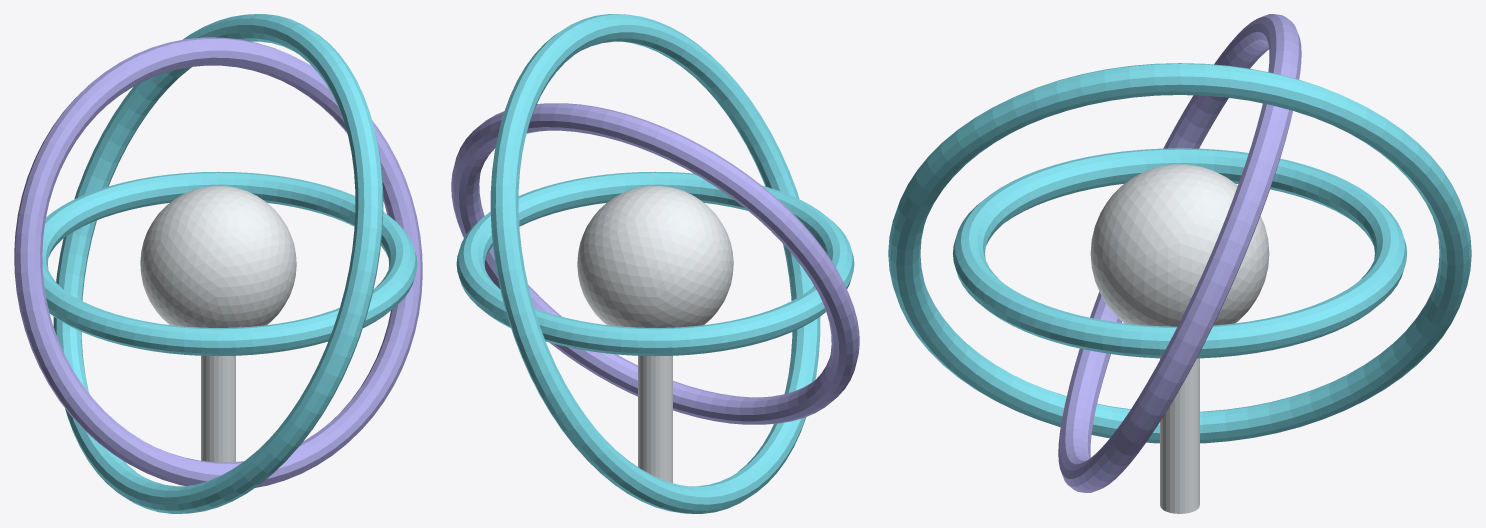
The model's file is orbital-rings.glb.
3 renders of one model, left to right at view 1: azimuth 30°, elevation 25°; view 2: azimuth 150°, elevation 25°; view 3: azimuth 270°, elevation 25°, orthographic. The views are drawn at different scales.
Parts seen in each view (by area): view 1: orbital-rings-1, orbital-rings-2, orbital-rings-0, orbital-rings-3, orbital-rings-4; view 2: orbital-rings-2, orbital-rings-1, orbital-rings-0, orbital-rings-3, orbital-rings-4; view 3: orbital-rings-2, orbital-rings-0, orbital-rings-1, orbital-rings-3, orbital-rings-4.
Part boxes in pixels (<box>): orbital-rings-1: <box>14,37,422,487</box>; orbital-rings-2: <box>53,14,383,513</box>; orbital-rings-0: <box>42,171,417,356</box>; orbital-rings-3: <box>140,186,296,327</box>; orbital-rings-4: <box>201,356,235,462</box>; orbital-rings-2: <box>490,14,820,513</box>; orbital-rings-1: <box>451,103,859,424</box>; orbital-rings-0: <box>456,171,854,356</box>; orbital-rings-3: <box>577,186,733,327</box>; orbital-rings-4: <box>638,356,672,482</box>; orbital-rings-2: <box>888,63,1471,443</box>; orbital-rings-0: <box>952,148,1407,358</box>; orbital-rings-1: <box>1058,14,1301,492</box>; orbital-rings-3: <box>1090,164,1269,326</box>; orbital-rings-4: <box>1160,358,1199,513</box>.
Size of the model in its own units: 2.09 by 2.18 by 2.35.
